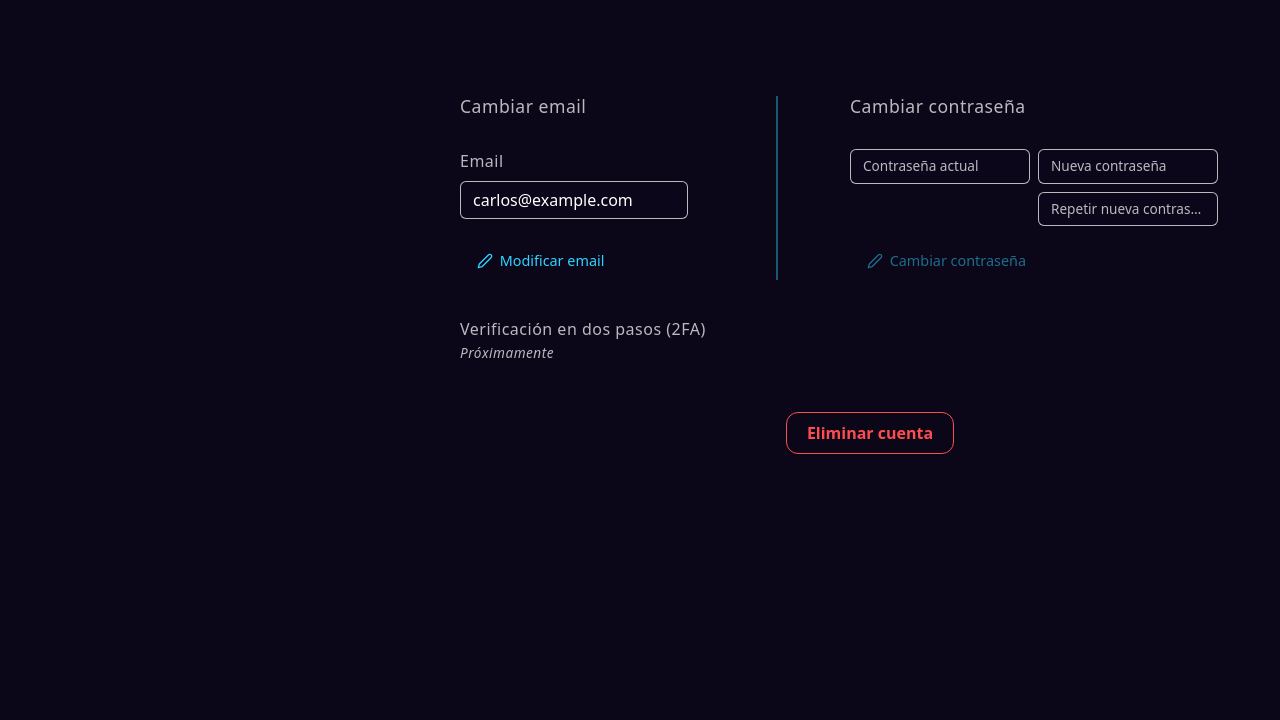
Test: EmailPasswordPanel › el modal de modificar email muestra el aviso de bloqueo cuando la respuesta es 423
The width and height of the screenshot is (1280, 720).
Expected: the field showing "carlos@example.com" is shown, 460,181 -> 688,219
Click the button "Modificar email".
click(541, 257)  # box 460,234 -> 622,280
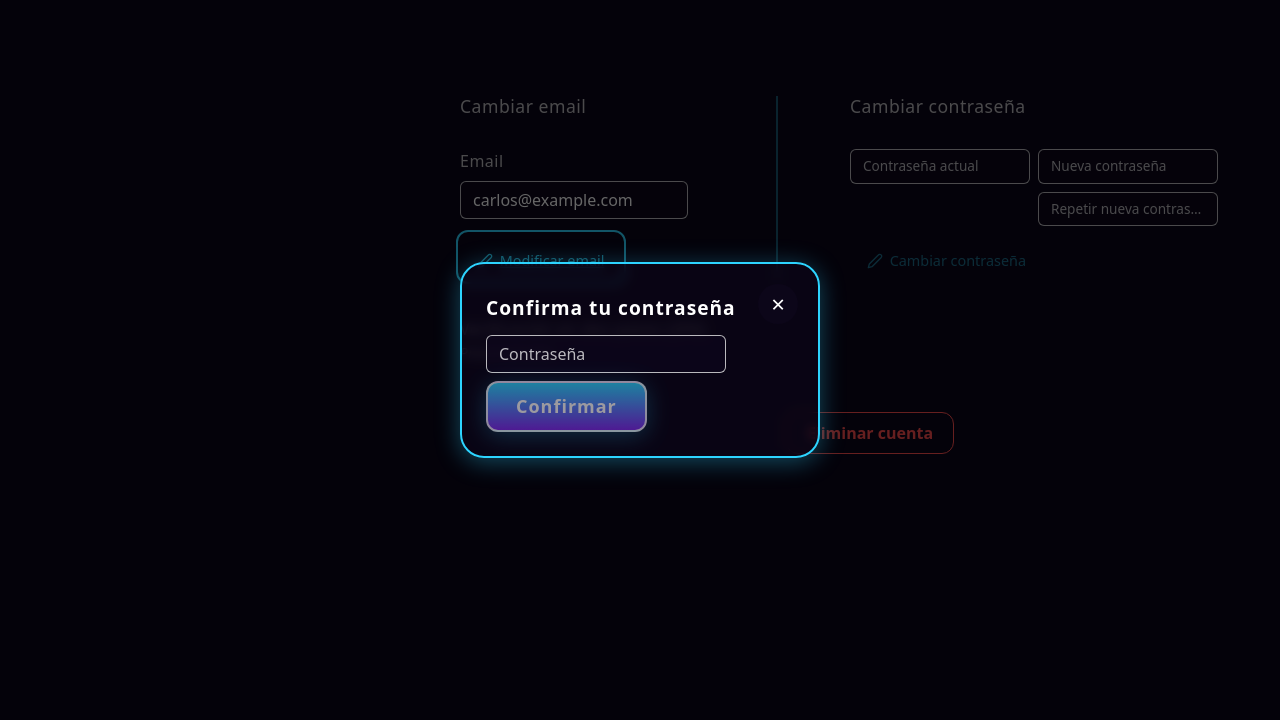
Type "mala" into the password field labelled "Contraseña".
click(606, 354); type("mala")  # box 486,335 -> 726,373
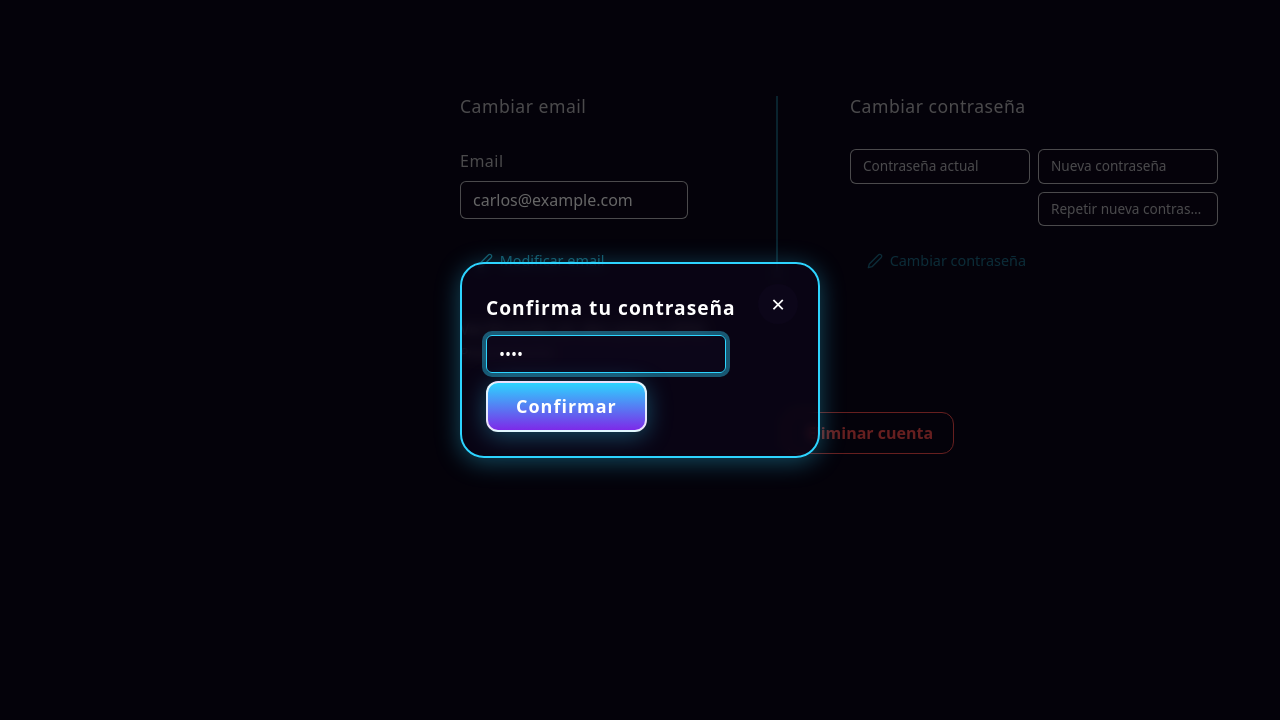
Click the button "Confirmar".
click(566, 406)  # box 486,381 -> 647,432
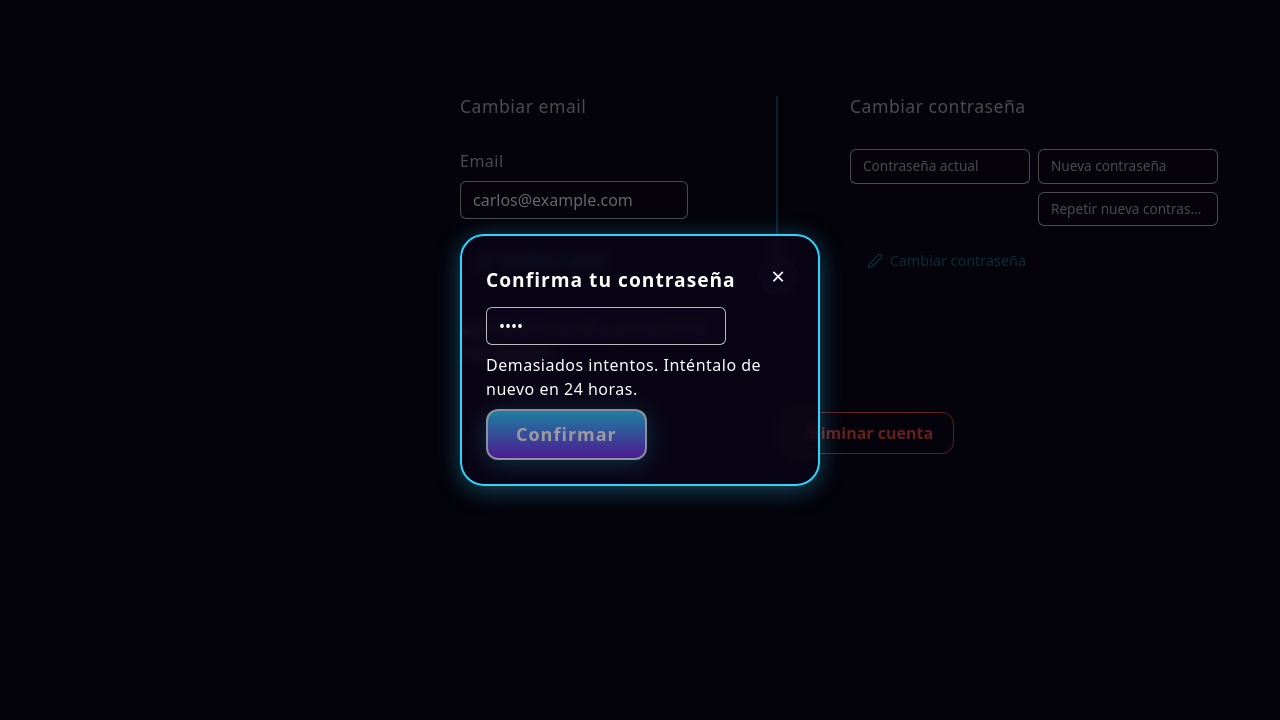
Expected: the message shows "24 horas", 486,354 -> 761,400
